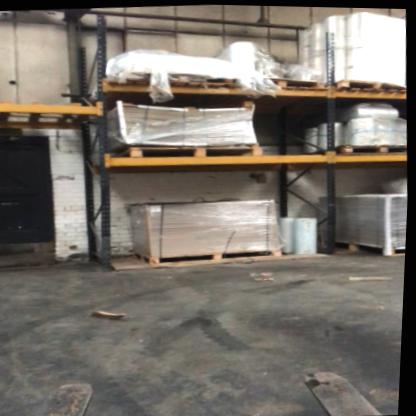vertical_damage: (101, 223, 118, 247)
